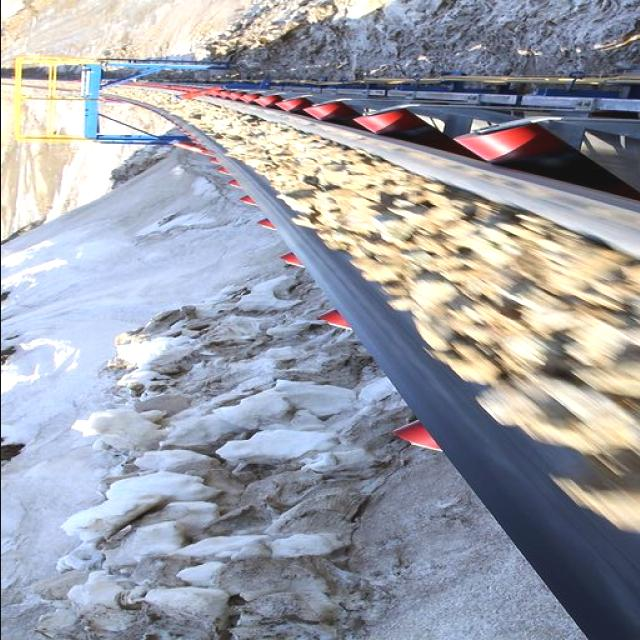conveyor: (44, 69, 640, 640)
